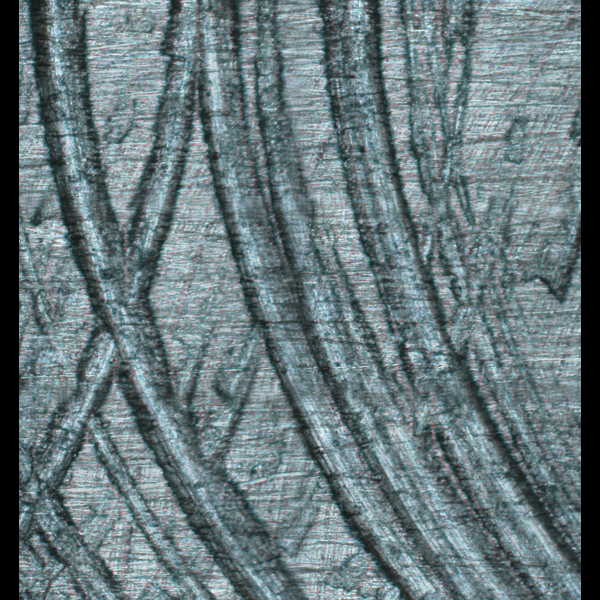d: (23, 0, 580, 597)
